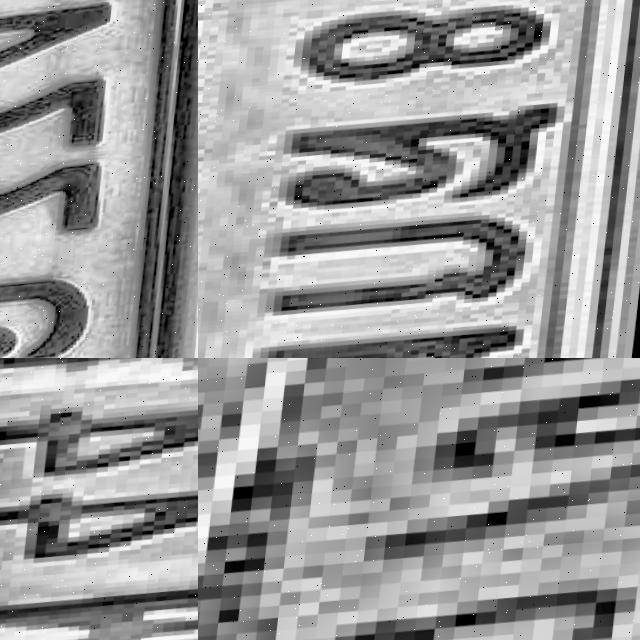license-plate: (198, 0, 640, 358), (198, 358, 640, 640), (0, 0, 198, 358), (0, 358, 198, 640)
